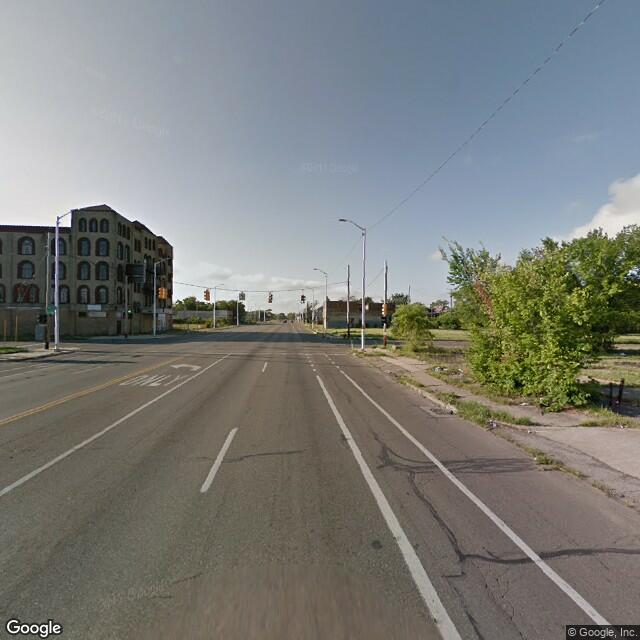litter: (520, 401, 530, 407), (457, 367, 464, 373), (529, 428, 534, 436), (492, 423, 495, 427)
